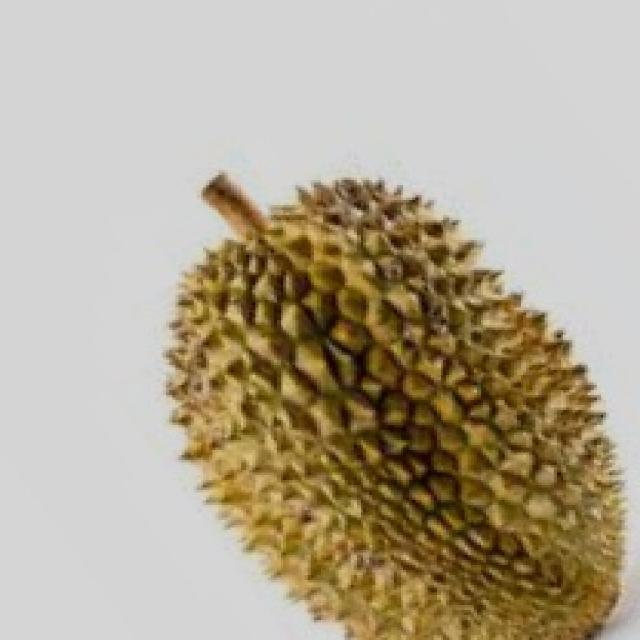fruit: (114, 205, 468, 637)
